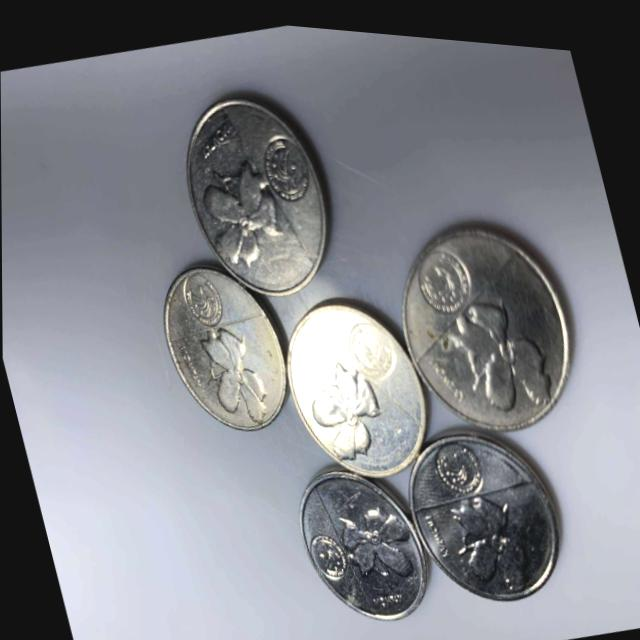25Cent_New_Back: (416, 253, 565, 427), (412, 462, 574, 613), (181, 140, 304, 301), (318, 452, 436, 617), (288, 336, 400, 480), (175, 299, 290, 436)
